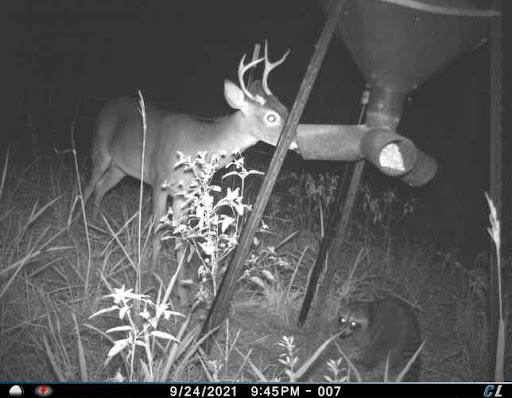Deer: (68, 37, 296, 325)
